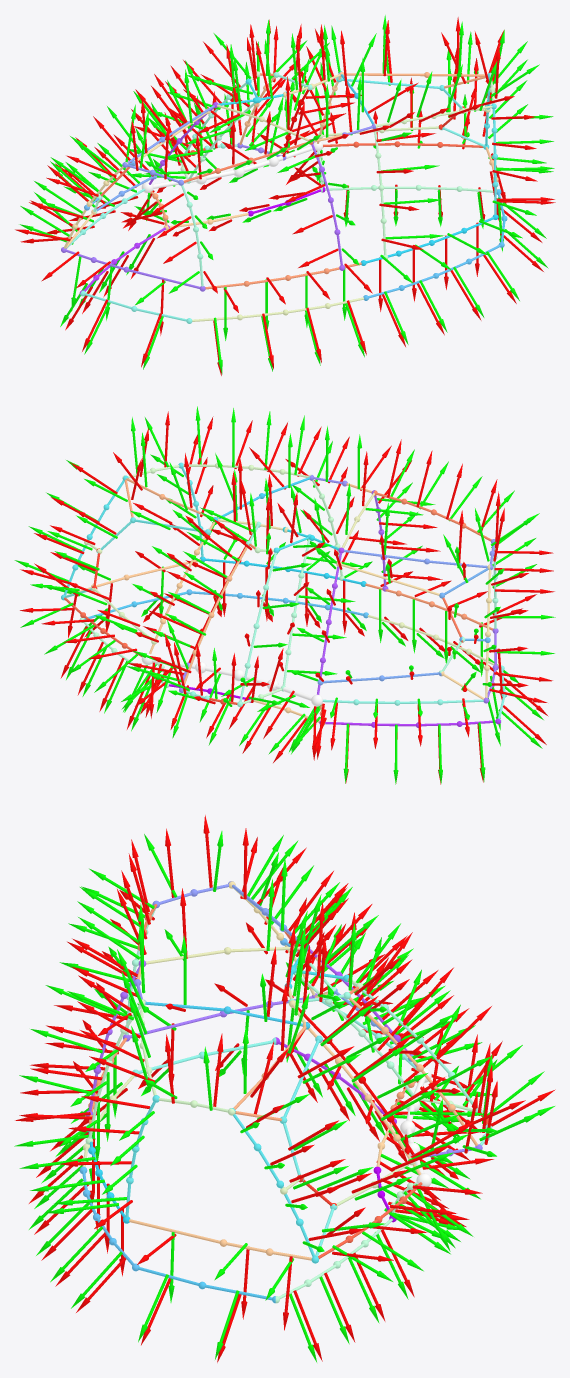
File: ils_speaker.gltf
3 views of the same model, one above another, from view 1: azimuth 30°, elevation 25°; view 2: azimuth 150°, elevation 25°; view 3: azimuth 270°, elevation 25° (orthographic). The views are drawn at different scales.
Size of the model in its own units: 0.9826 by 0.4606 by 0.7032.
